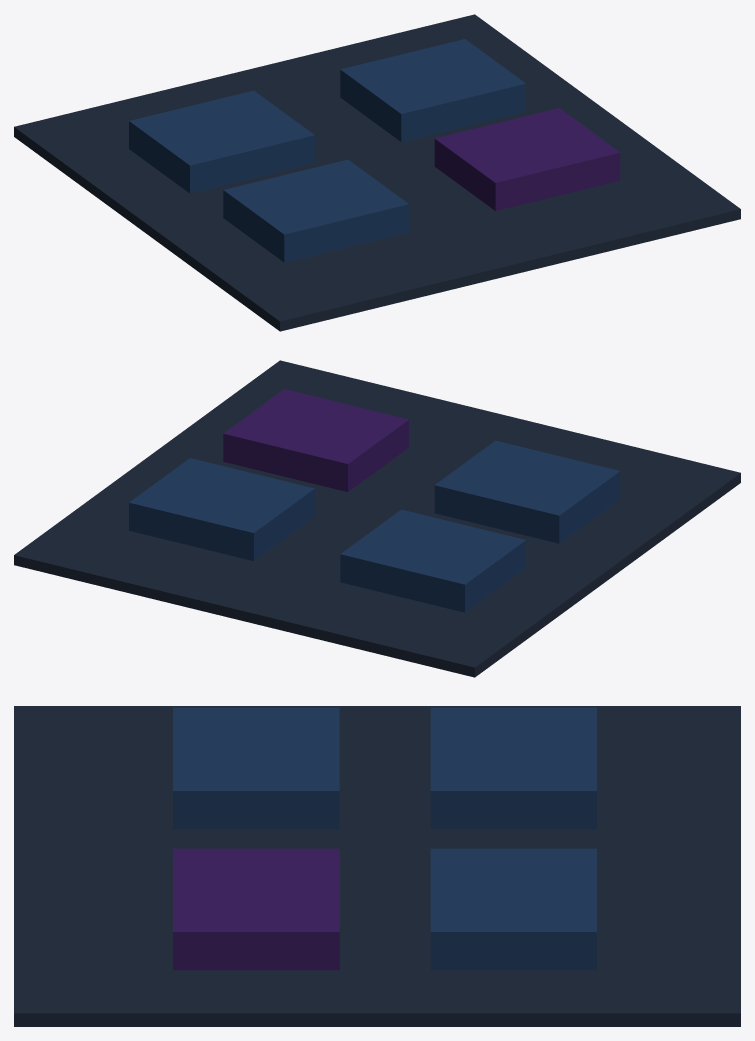
File: cpu-internals.glb
3 renders of one model, top to bottom at view 1: azimuth 30°, elevation 25°; view 2: azimuth 150°, elevation 25°; view 3: azimuth 270°, elevation 25°, orthographic. The views are drawn at different scales.
Visible parts, largest first — view 1: CPUInternals; view 2: CPUInternals; view 3: CPUInternals.
Part boxes in pixels (<box>): CPUInternals: <box>14,14,740,331</box>; CPUInternals: <box>14,360,740,677</box>; CPUInternals: <box>14,706,740,1026</box>.
Bounding box in the file's own units: 2.4 × 0.195 × 2.4.
